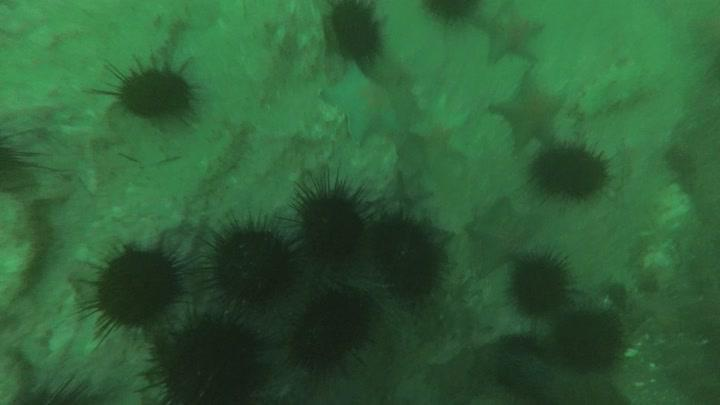urchin: (143, 307, 267, 405), (201, 207, 300, 316), (80, 236, 188, 334), (281, 283, 379, 374), (362, 204, 446, 300), (283, 169, 365, 263), (106, 55, 197, 124), (521, 138, 608, 209), (550, 303, 624, 377), (503, 246, 575, 319), (327, 2, 386, 63), (1, 125, 41, 182), (422, 1, 481, 26)
